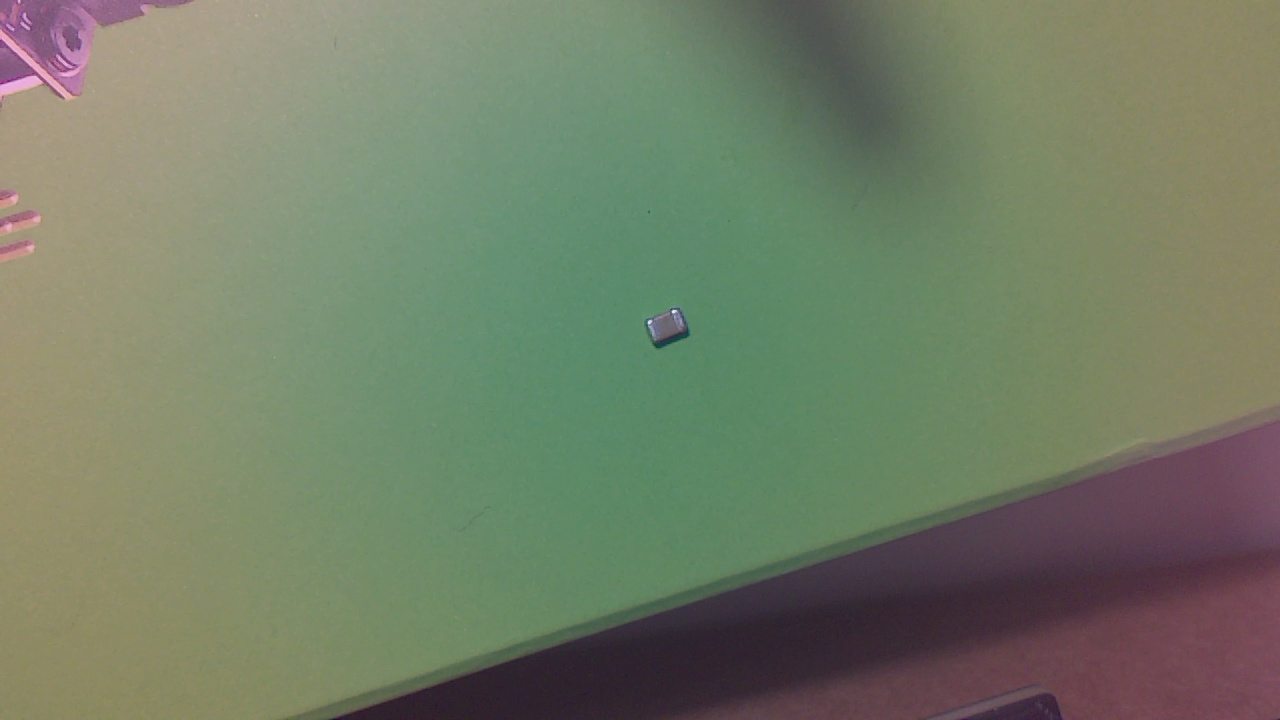Condensator: (648, 309, 697, 355)
